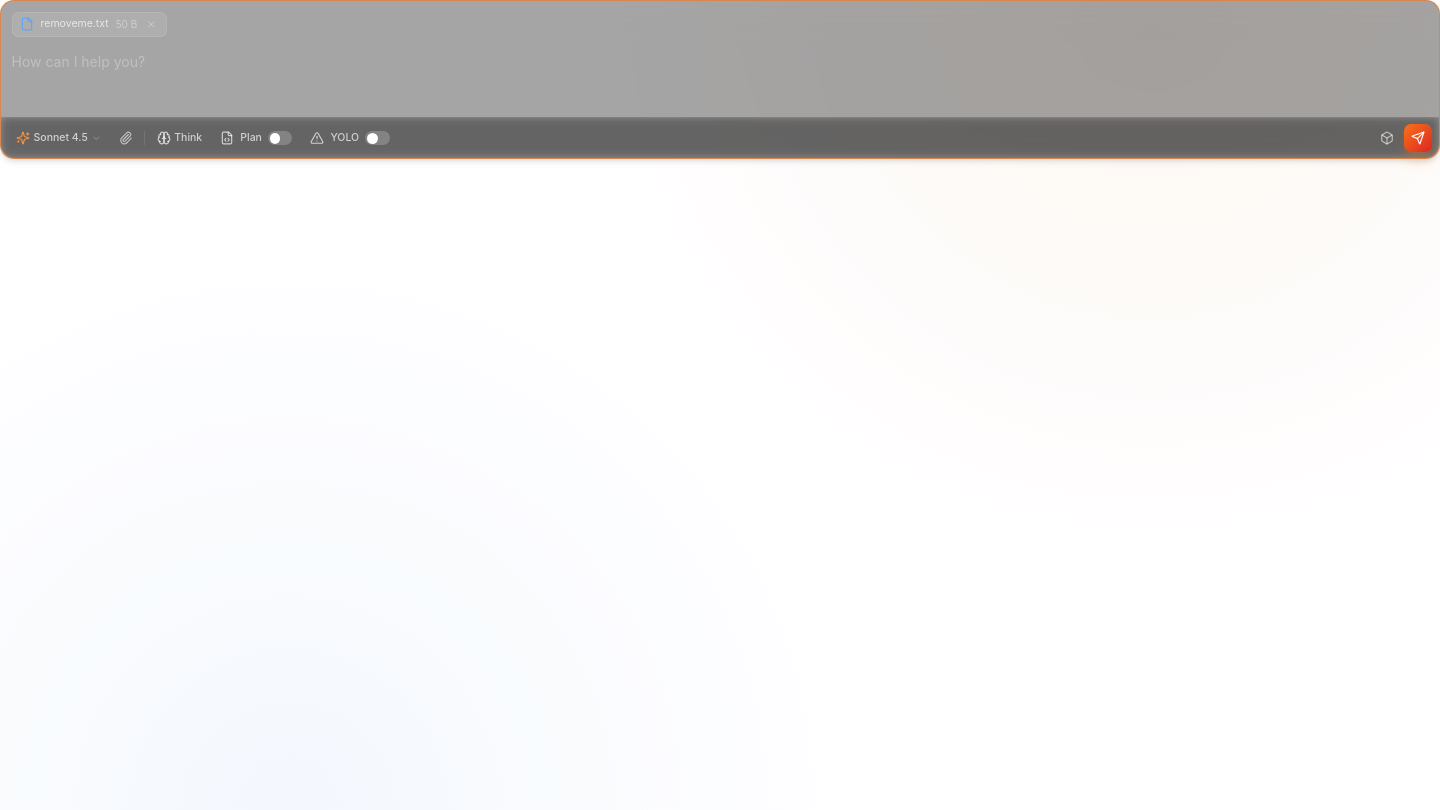
Test case: MessageInput › attachments › should remove attachment when X button is clicked
Expected: the text "removeme.txt" is shown, top-left (40, 17), bottom-right (109, 31)
Step 1. Click the button titled "Remove attachment" → (152, 24), box top-left (144, 17), bottom-right (159, 31)
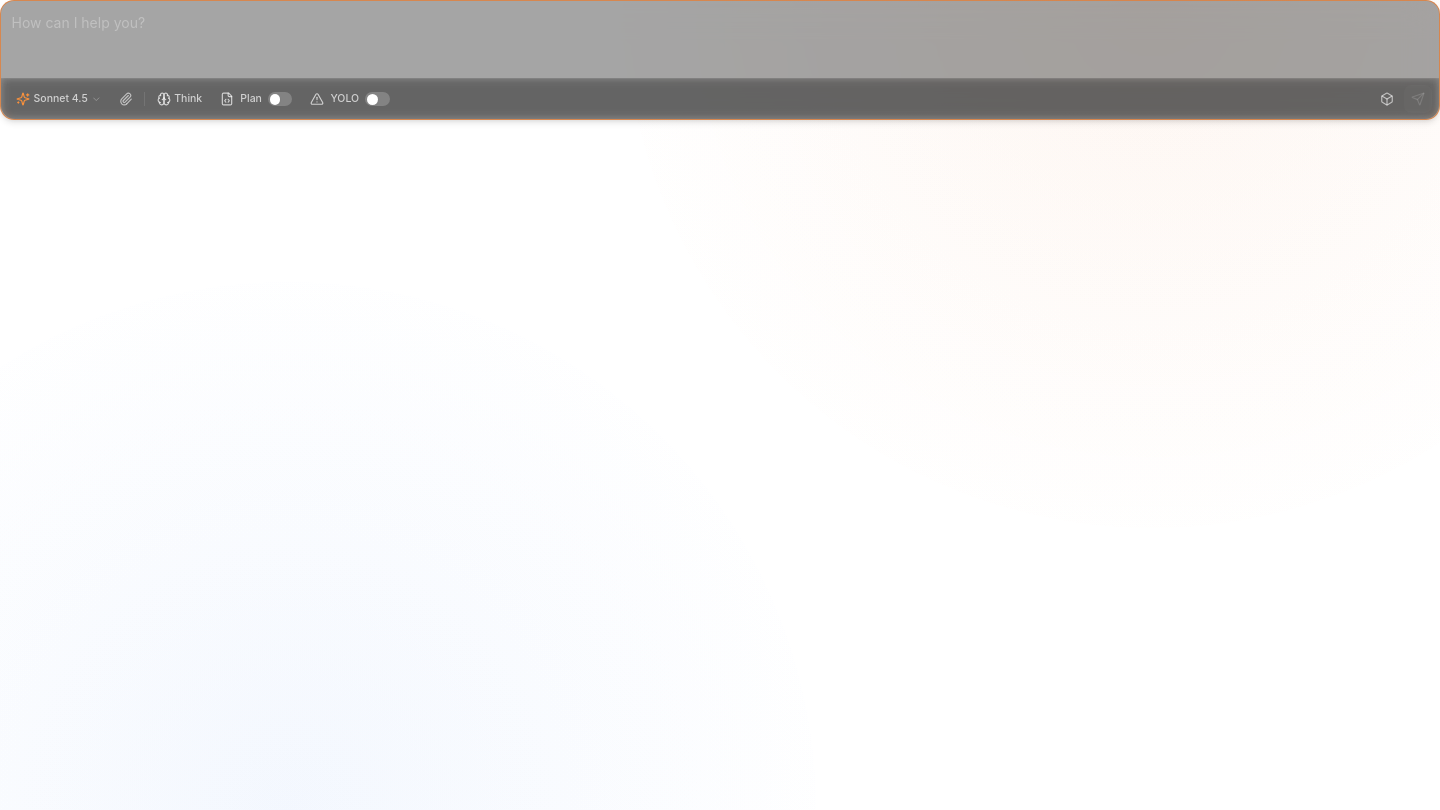
Result: the text "removeme.txt" is gone
